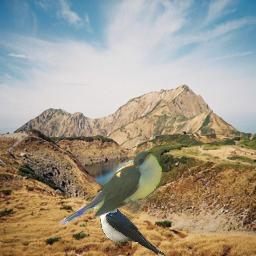Cuckoo: (57, 150, 162, 225)
Swallow: (100, 200, 166, 256)
